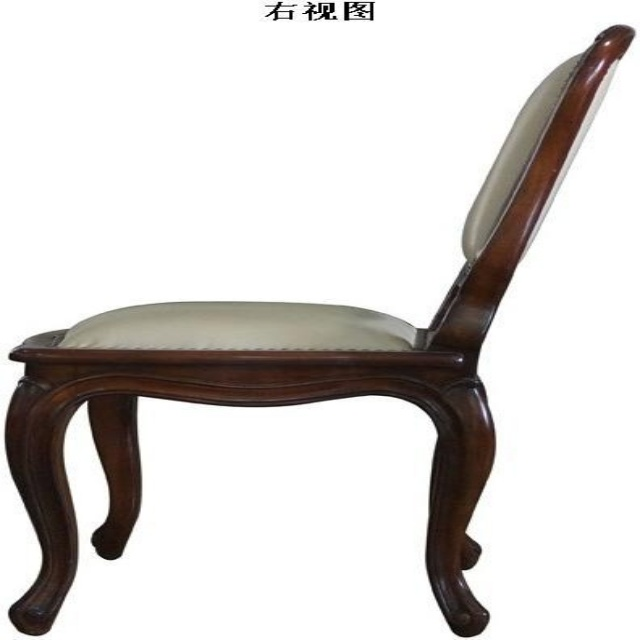obstacle: (5, 25, 632, 636)
